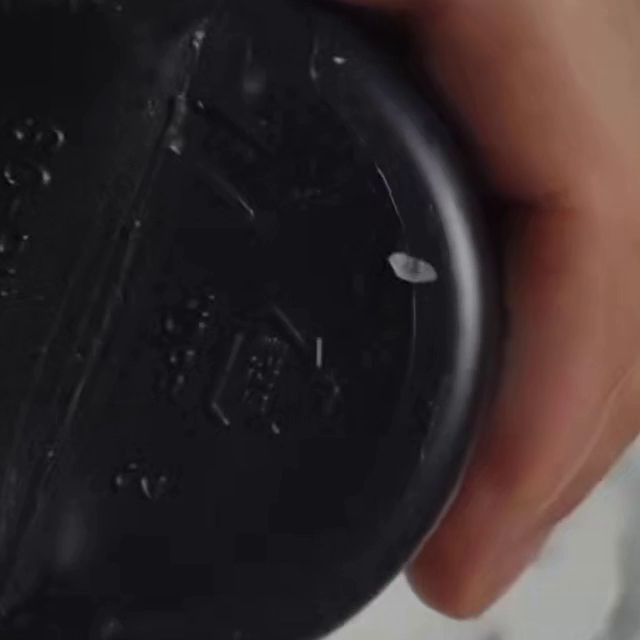Plastic: (206, 308, 345, 439)
